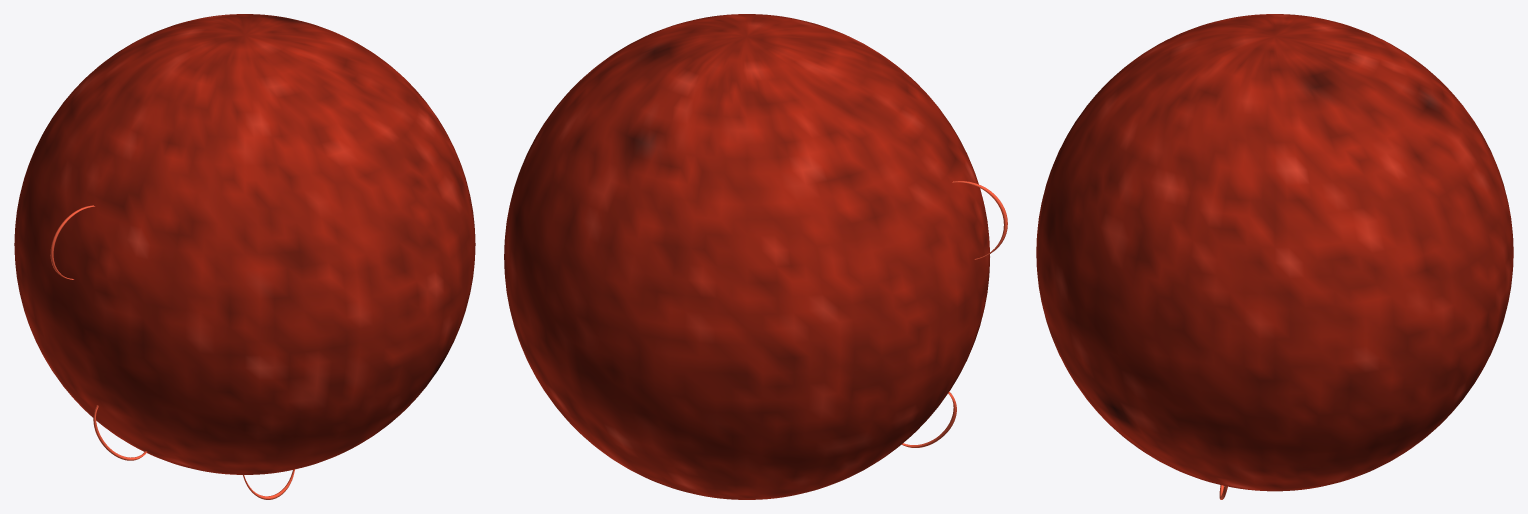
The model's file is Star_09.fbx.
The picture shows the model from 3 angles, left to right: view 1: azimuth 30°, elevation 25°; view 2: azimuth 150°, elevation 25°; view 3: azimuth 270°, elevation 25°; orthographic projection. The views are drawn at different scales.
Parts seen in each view (by area): view 1: Star_09; view 2: Star_09; view 3: Star_09.
Part boxes in pixels (<box>): Star_09: <box>14,14,475,499</box>; Star_09: <box>504,14,1007,499</box>; Star_09: <box>1036,14,1513,499</box>.
Bounding box in the file's own units: 210 × 213 × 200.
